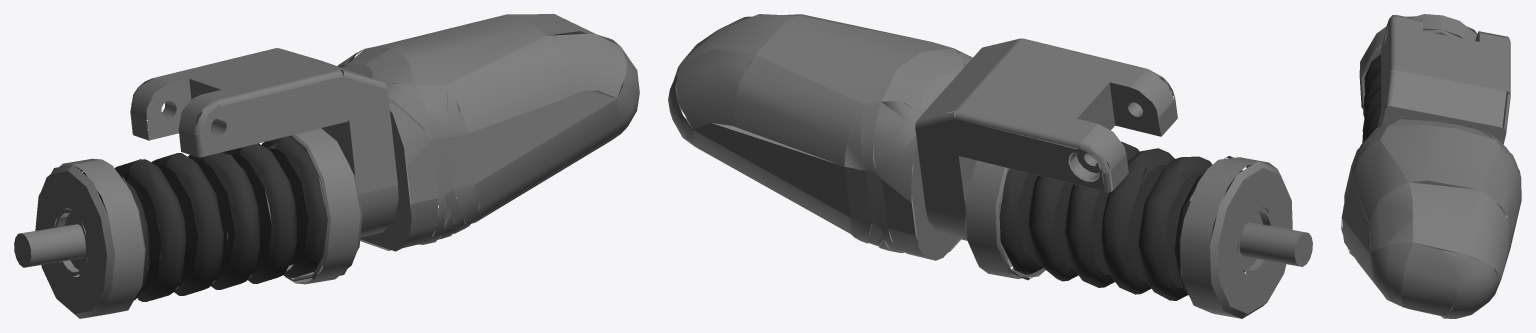
Rendered from handl_finger_middle2_joint.obj.
3 renders of one model, left to right at view 1: azimuth 30°, elevation 25°; view 2: azimuth 150°, elevation 25°; view 3: azimuth 270°, elevation 25°, orthographic. The views are drawn at different scales.
Bounding box in the file's own units: 0.0599 × 0.0202 × 0.0175.
1 material, 1 textured.
